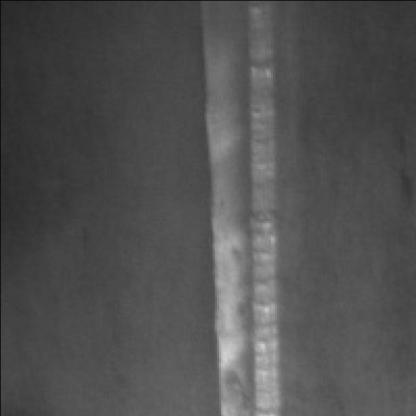scratches: (196, 0, 289, 412)
